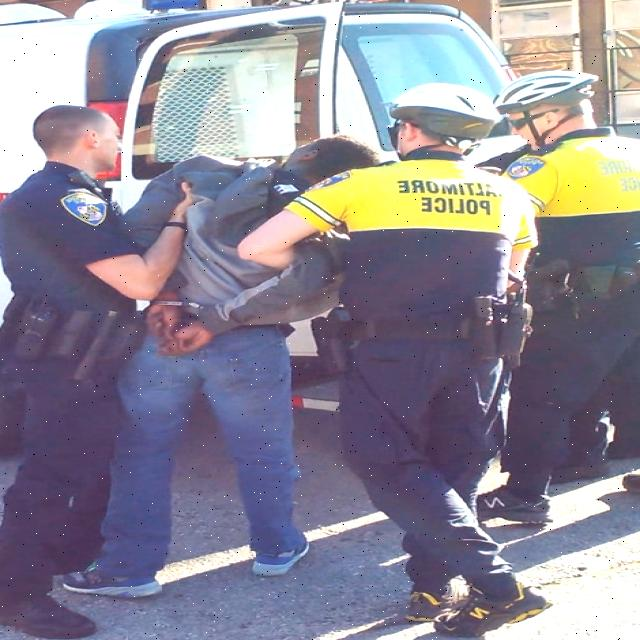police: (308, 77, 543, 625), (0, 95, 185, 640), (486, 59, 640, 530)
